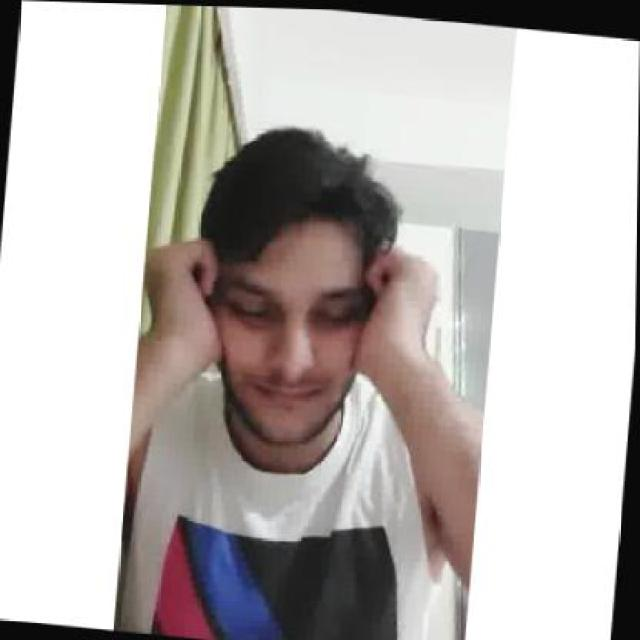inattentif: (188, 117, 387, 452)
